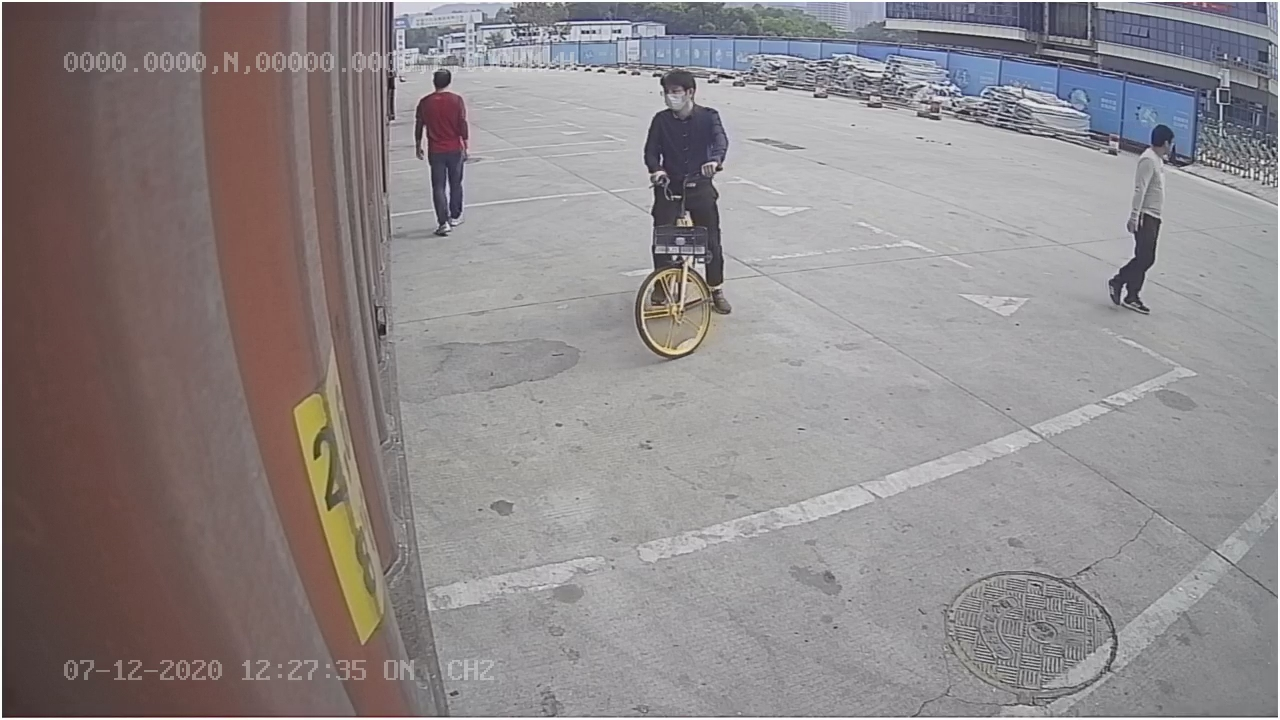person: (407, 67, 475, 241)
